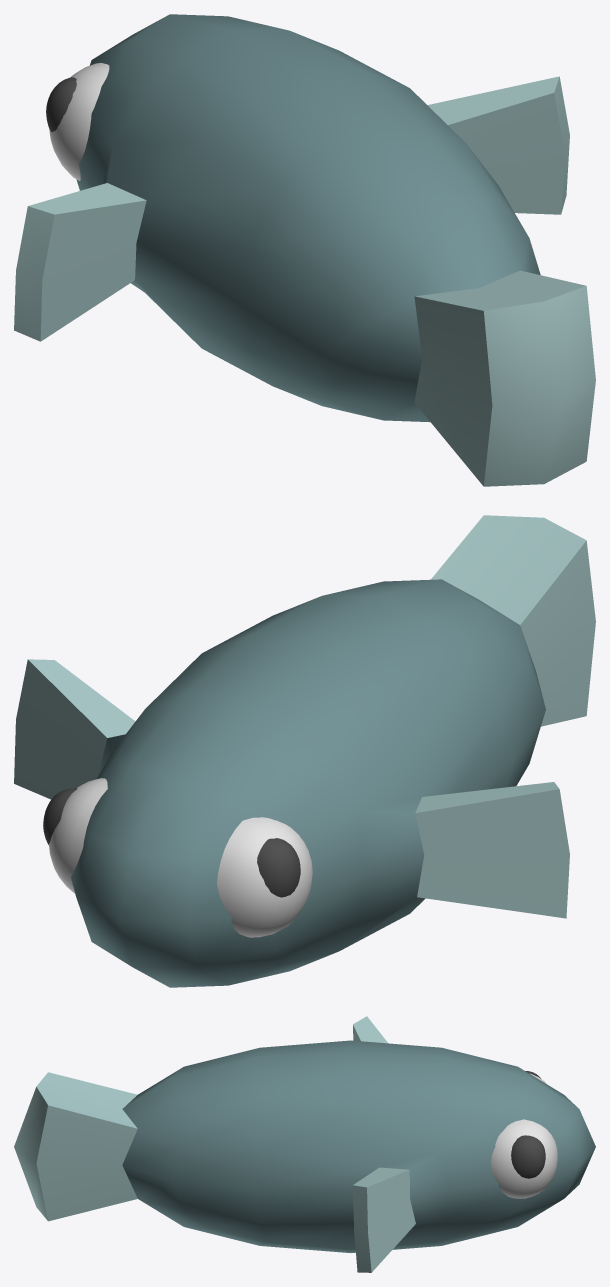
The model's file is fish.fbx.
The picture shows the model from 3 angles, top to bottom: view 1: azimuth 30°, elevation 25°; view 2: azimuth 150°, elevation 25°; view 3: azimuth 270°, elevation 25°; orthographic projection. The views are drawn at different scales.
Parts seen in each view (by area): view 1: pCube1, pCube2, pCube3; view 2: pCube1, pCube2, pCube3; view 3: pCube1, pCube2, pCube3.
Part boxes in pixels (x1,y1,x2,y2): pCube1: [14, 14, 595, 486]; pCube2: [49, 63, 109, 180]; pCube3: [46, 77, 76, 132]; pCube1: [14, 515, 595, 987]; pCube2: [49, 778, 312, 937]; pCube3: [43, 788, 300, 897]; pCube1: [14, 1016, 595, 1272]; pCube2: [491, 1073, 557, 1198]; pCube3: [511, 1071, 545, 1178].
Bounding box in the file's own units: 1.36 × 0.6694 × 1.87.
